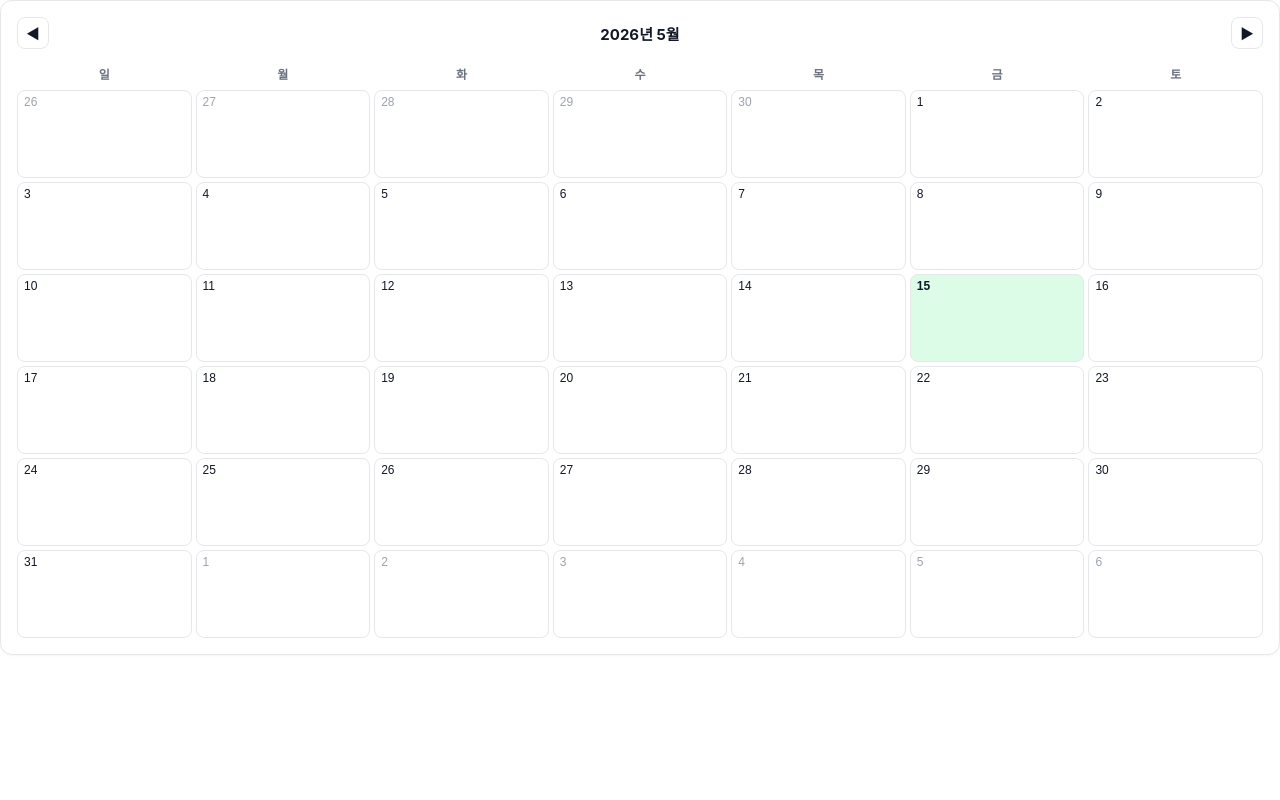
Test case: TodoCalendar › 다음 달 버튼 클릭 시 월이 증가하고, 이전 달 버튼 클릭 시 원래 월로 돌아온다
Click the button named "다음 달": (1247, 33) [1231,17,1263,49]
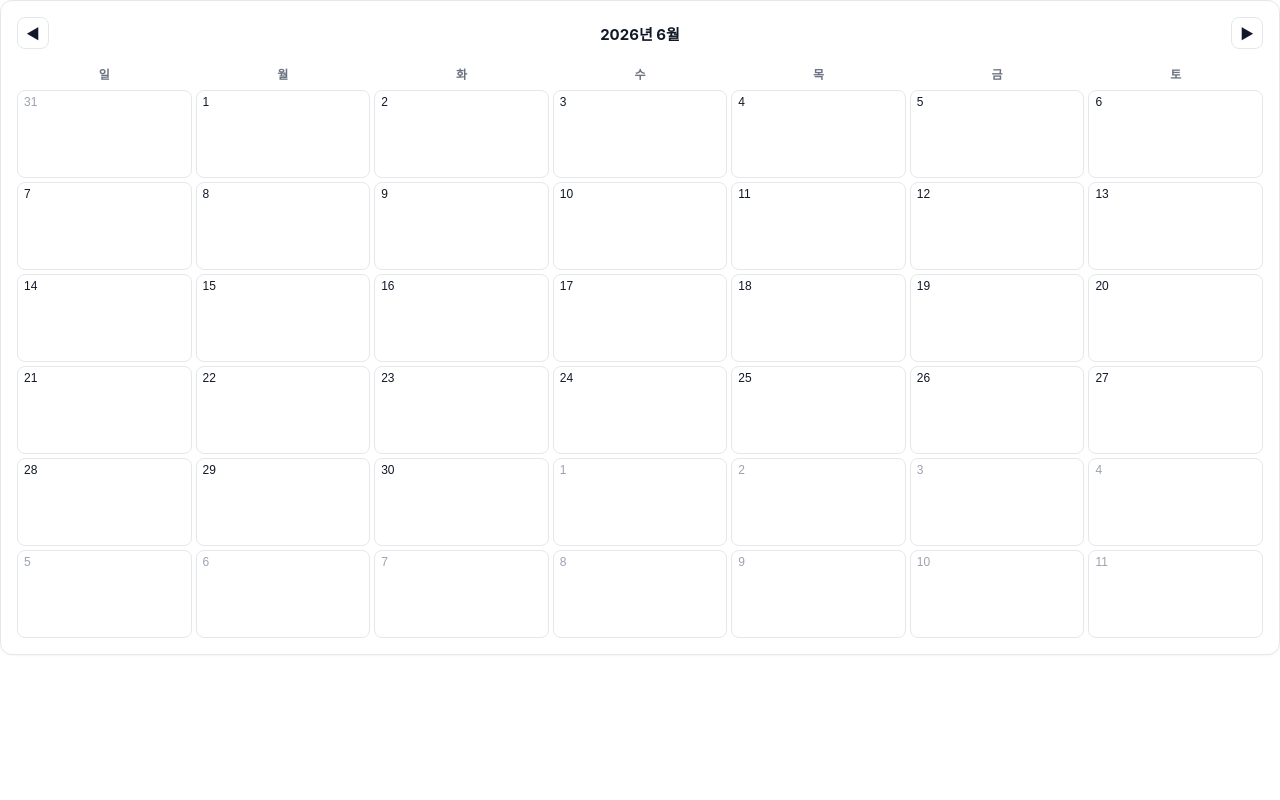
Click the button named "이전 달": (33, 33) [17,17,49,49]
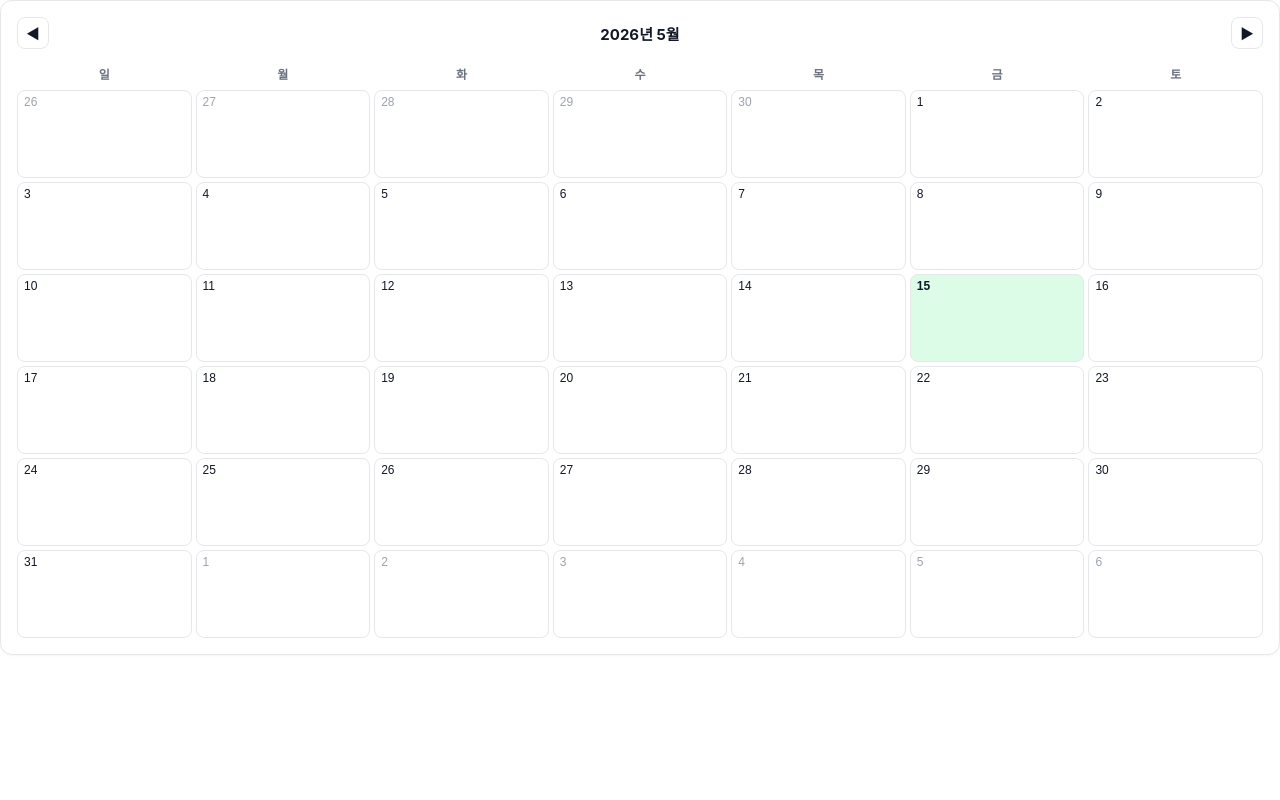
expect the text with test id "calendar-month-label" reads "2026년 5월": met, box [600,22,680,44]
